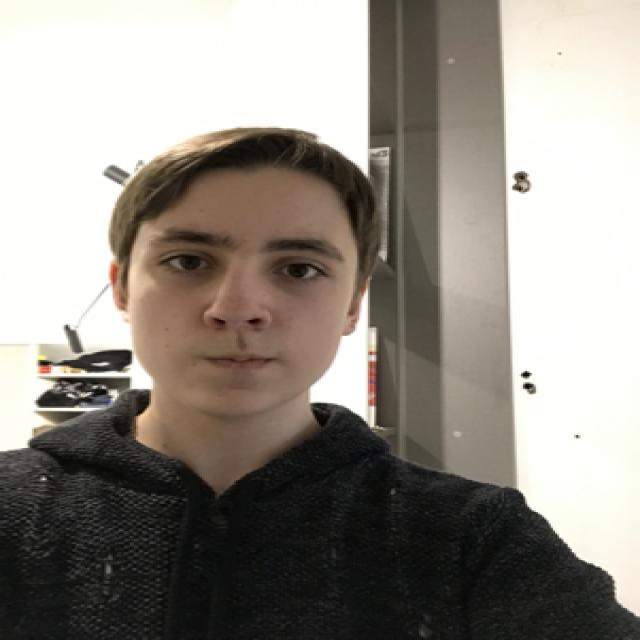no_mask: (130, 214, 356, 420)
